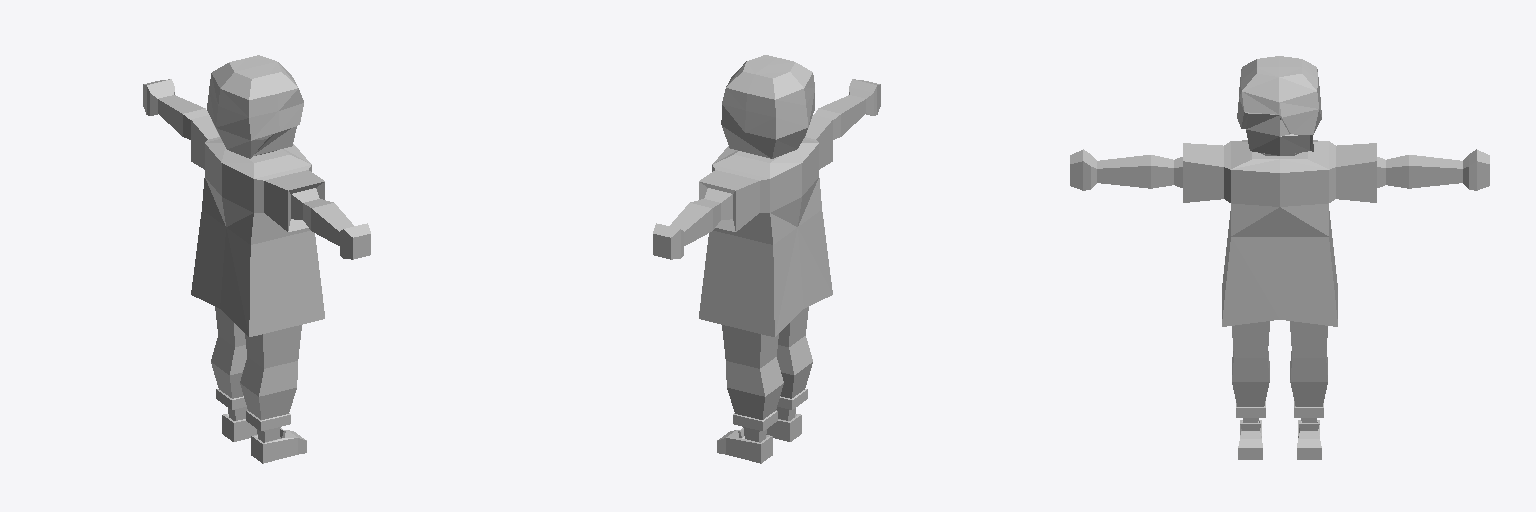
The model's file is NaiSubstance.obj.
The picture shows the model from 3 angles: view 1: azimuth 30°, elevation 25°; view 2: azimuth 150°, elevation 25°; view 3: azimuth 270°, elevation 25°; orthographic projection.
Parts seen in each view (by area): view 1: Nai; view 2: Nai; view 3: Nai.
Boxes of the visible parts, x1=… form: Nai: x1=143, y1=55, x2=370, y2=463; Nai: x1=653, y1=55, x2=880, y2=463; Nai: x1=1070, y1=56, x2=1489, y2=459.
Bounding box in the file's own units: 1.09 × 4.9 × 4.91.